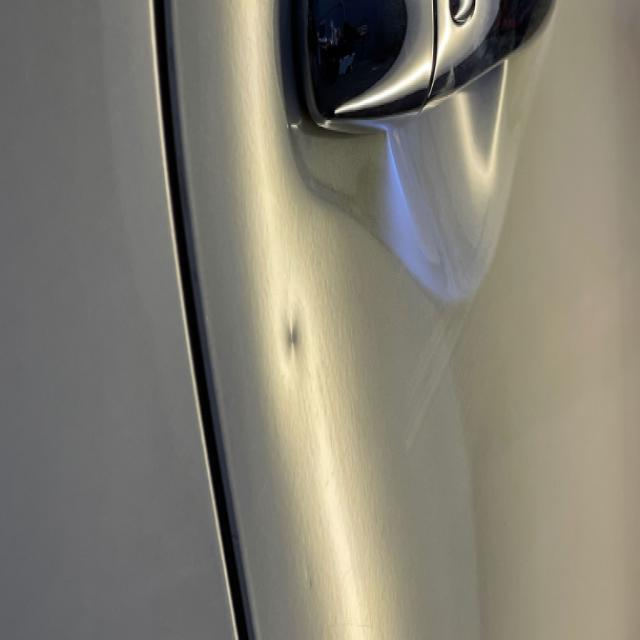dents: (271, 290, 314, 390), (292, 536, 321, 613)
